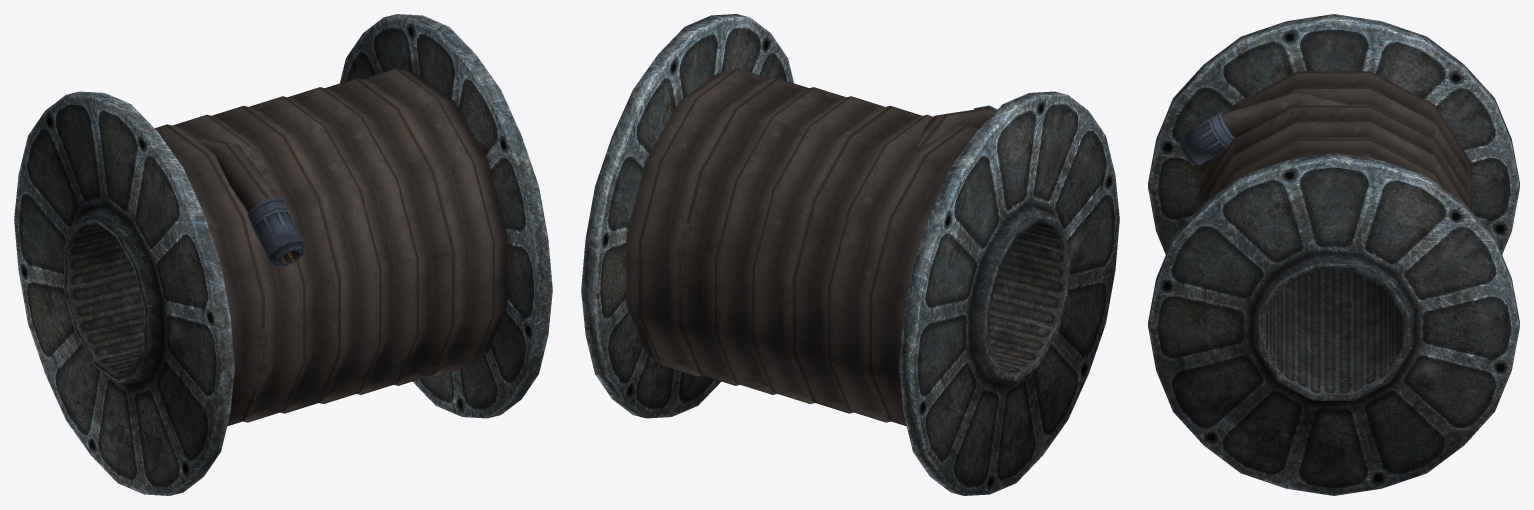
The model's file is cable_roll.dae.
3 renders of one model, left to right at view 1: azimuth 30°, elevation 25°; view 2: azimuth 150°, elevation 25°; view 3: azimuth 270°, elevation 25°, orthographic. The views are drawn at different scales.
Parts seen in each view (by area): view 1: polySurface18; view 2: polySurface18; view 3: polySurface18.
Boxes of the visible parts, <box> form: polySurface18: <box>14,14,552,495</box>; polySurface18: <box>581,14,1119,495</box>; polySurface18: <box>1148,14,1519,495</box>.
Bounding box in the file's own units: 0.5 × 0.5047 × 0.5047.
1 material, 1 textured.
